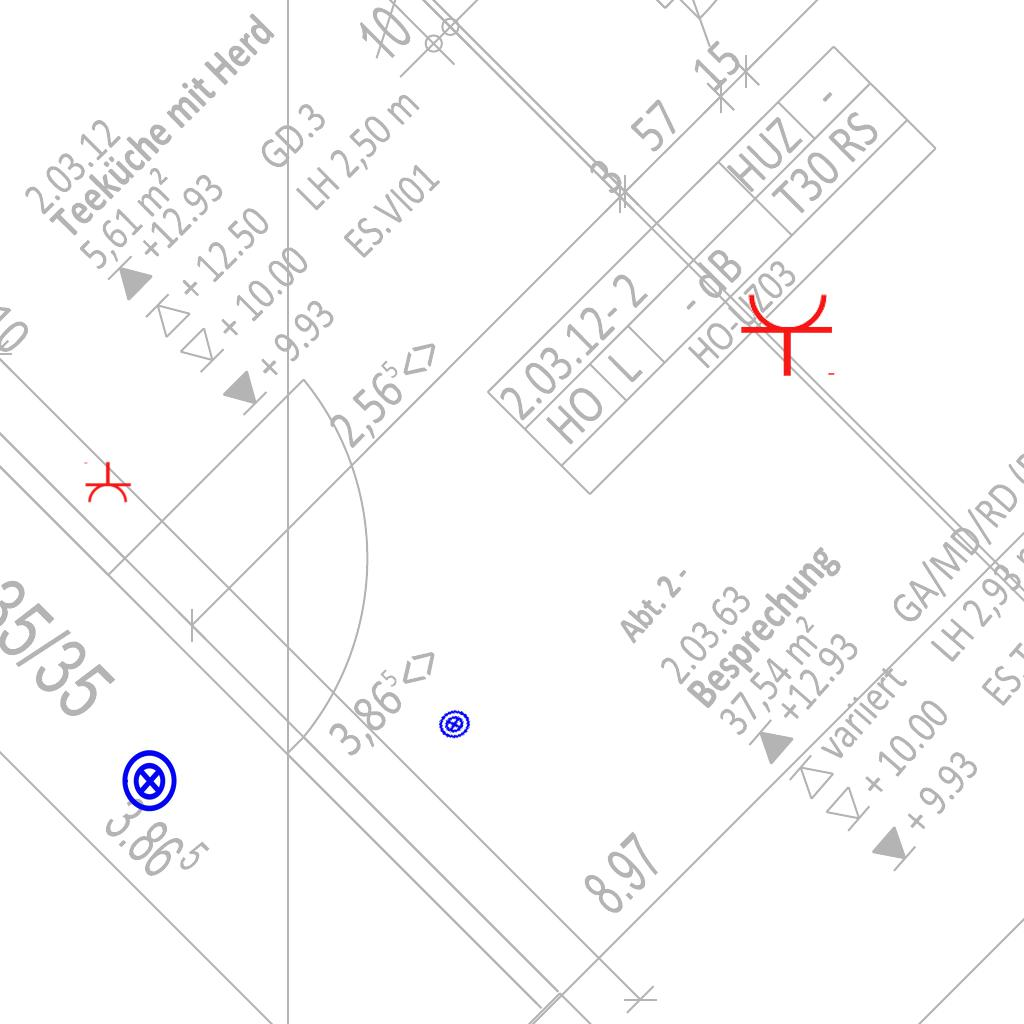Schukosteckdose_einfach: (739, 291, 839, 378), (82, 461, 132, 504)
Taster_beleuchtet: (117, 748, 183, 814), (433, 703, 476, 746)
